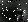person: (19, 9, 27, 21)
